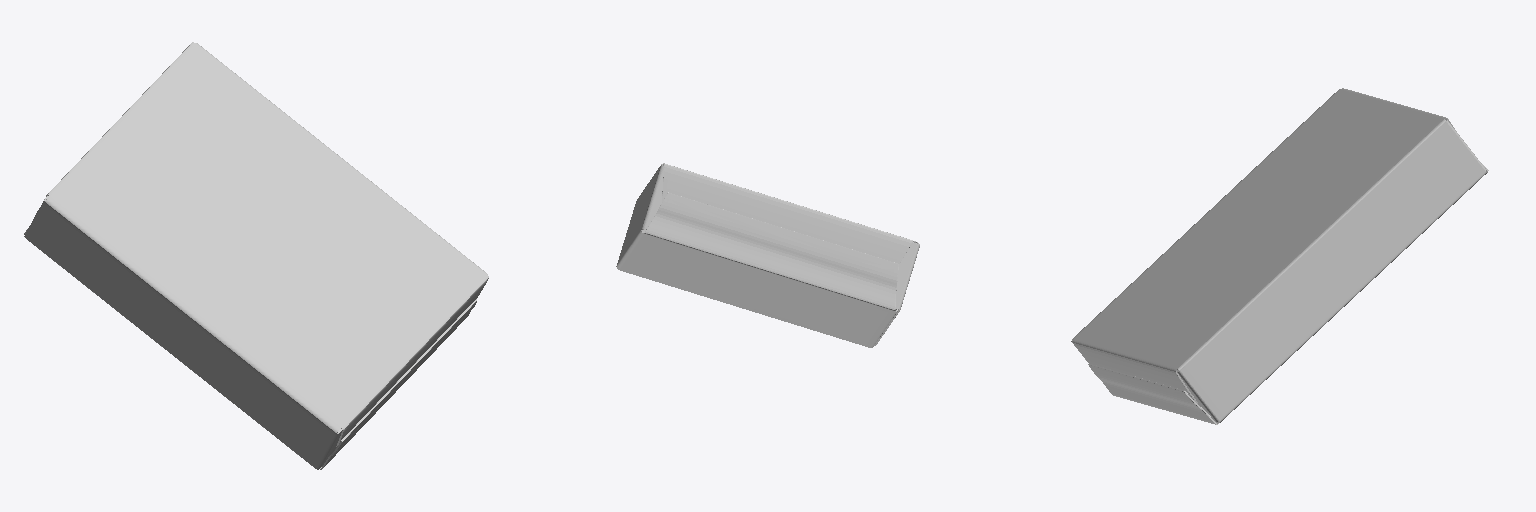
File: box_of_cereal_xyz_big.obj
3 renders of one model, left to right at view 1: azimuth 30°, elevation 25°; view 2: azimuth 150°, elevation 25°; view 3: azimuth 270°, elevation 25°, orthographic.
Visible parts, largest first — view 1: Box_Box_Box_Box_of_cerealCOL_jpg; view 2: Box_Box_Box_Box_of_cerealCOL_jpg; view 3: Box_Box_Box_Box_of_cerealCOL_jpg.
Boxes of the visible parts, box(x1,y1,x2,y2) form: Box_Box_Box_Box_of_cerealCOL_jpg: box(24, 42, 488, 469); Box_Box_Box_Box_of_cerealCOL_jpg: box(616, 163, 919, 347); Box_Box_Box_Box_of_cerealCOL_jpg: box(1071, 88, 1488, 424).
Size of the model in its own units: 0.5349 by 0.4171 by 0.5317.